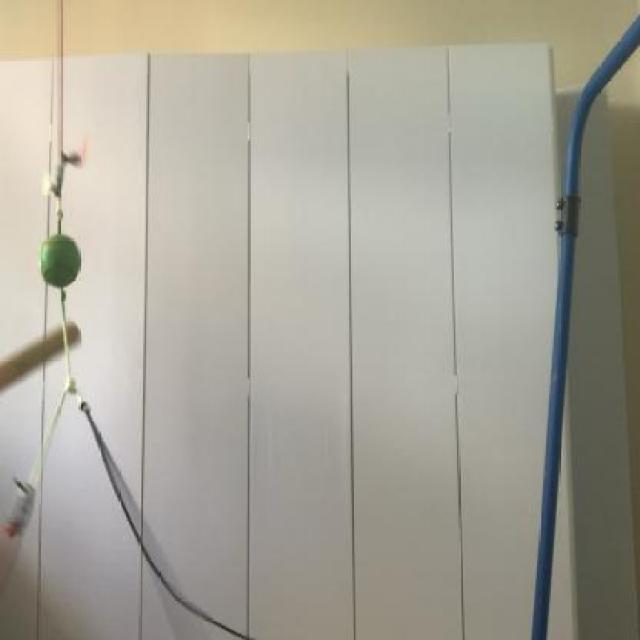baseball: (35, 224, 87, 290)
